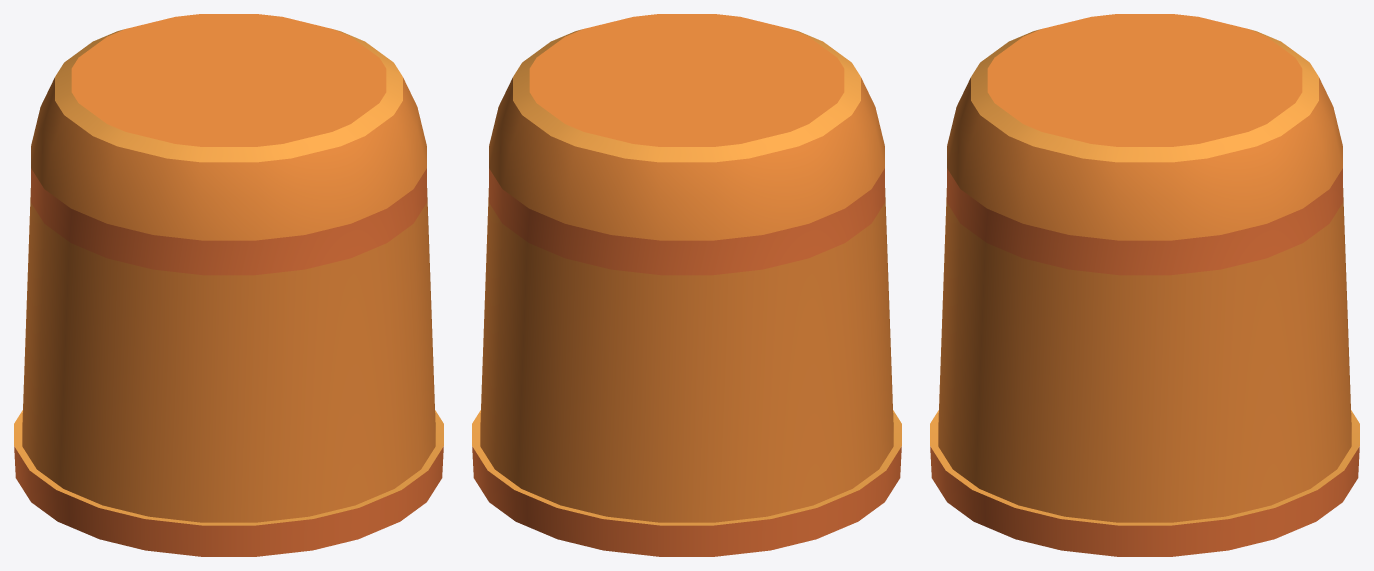
The model's file is Stand.fbx.
3 renders of one model, left to right at view 1: azimuth 30°, elevation 25°; view 2: azimuth 150°, elevation 25°; view 3: azimuth 270°, elevation 25°, orthographic.
Parts seen in each view (by area): view 1: Stand; view 2: Stand; view 3: Stand.
Boxes of the visible parts, x1=… form: Stand: x1=14, y1=14, x2=443, y2=556; Stand: x1=472, y1=14, x2=901, y2=556; Stand: x1=930, y1=14, x2=1359, y2=556.
Bounding box in the file's own units: 183 × 182 × 183.
